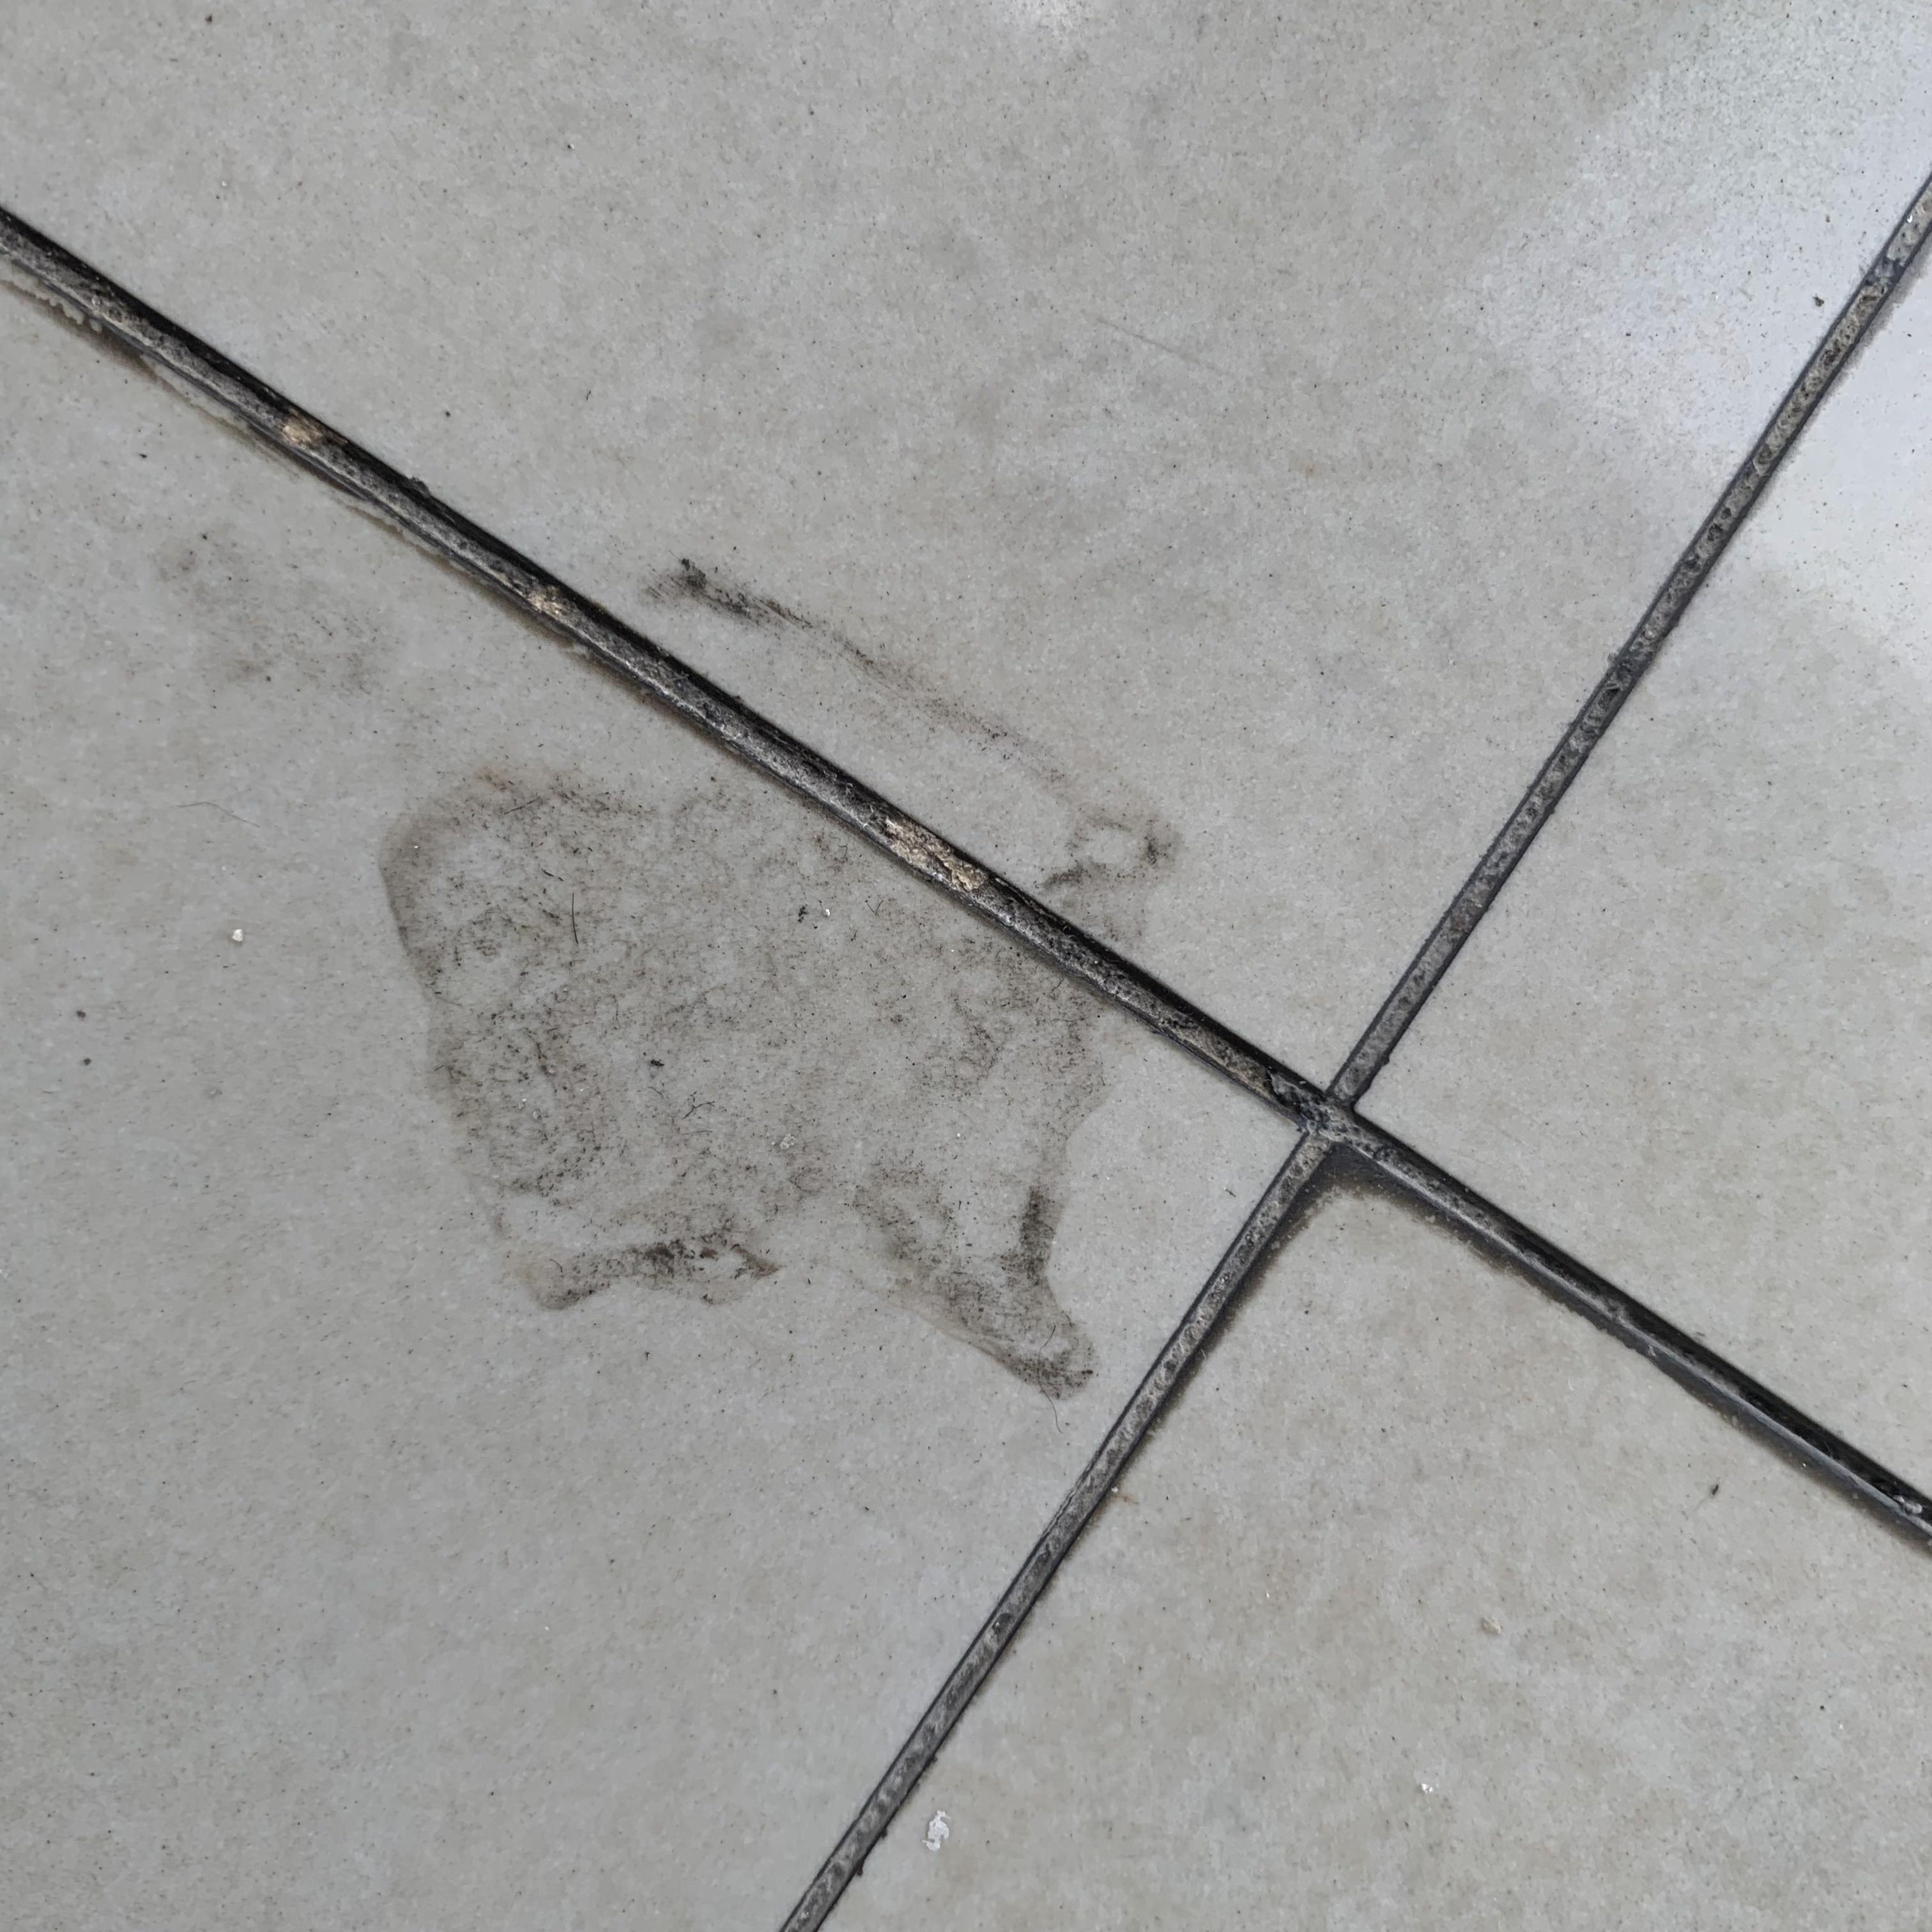grey spot: (379, 563, 1178, 1398)
reflection: (1437, 0, 1932, 699)
